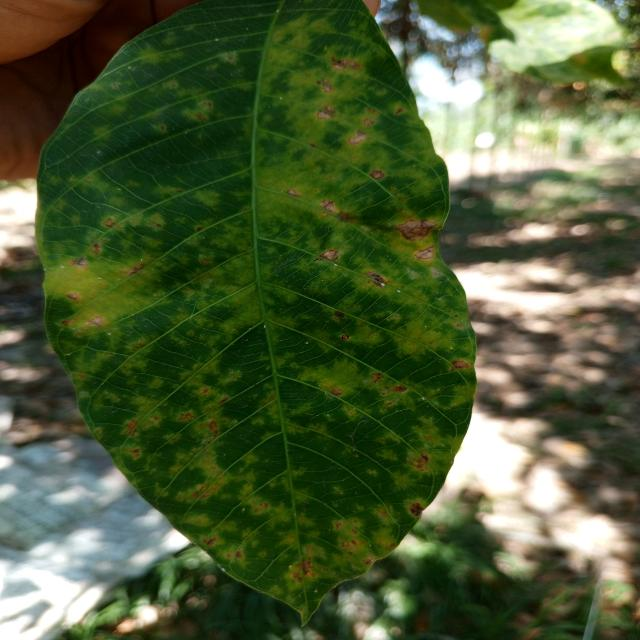Colletotrichum: (341, 334, 350, 340)
Leaf-Blight: (396, 219, 438, 242), (415, 246, 434, 260), (319, 250, 338, 260), (321, 200, 335, 212)
